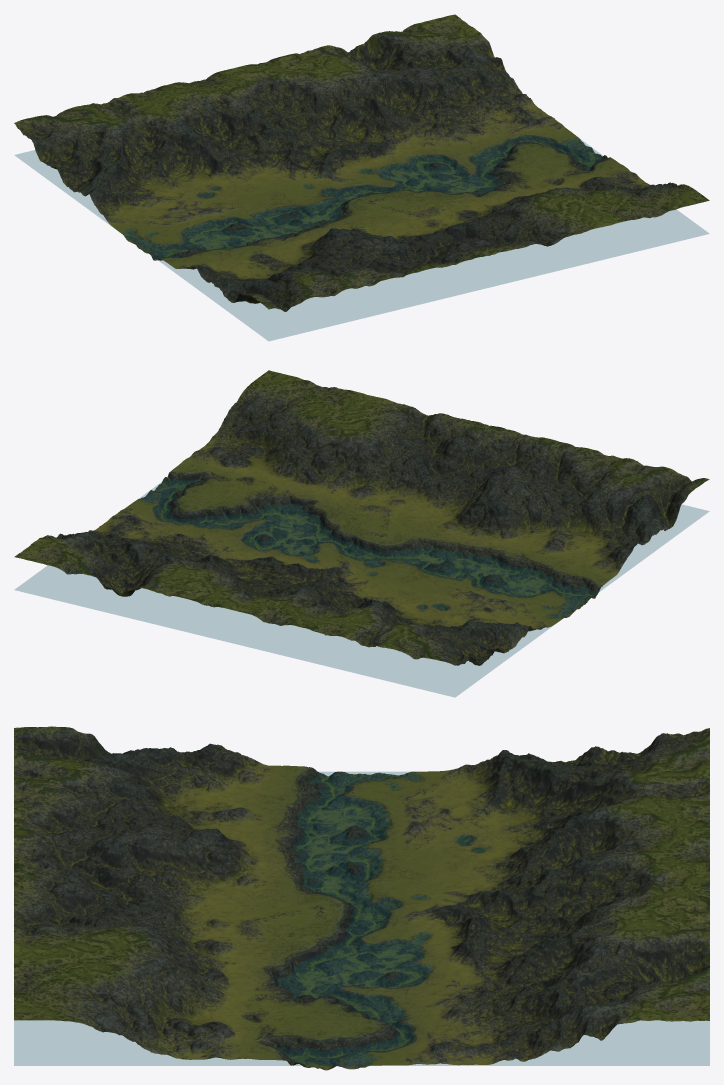
File: map_terrain.glb
The picture shows the model from 3 angles, top to bottom: view 1: azimuth 30°, elevation 25°; view 2: azimuth 150°, elevation 25°; view 3: azimuth 270°, elevation 25°; orthographic projection. The views are drawn at different scales.
Visible parts, largest first — view 1: Null_2_terrain_0, Plane_water_0; view 2: Null_2_terrain_0, Plane_water_0; view 3: Null_2_terrain_0, Plane_water_0.
Boxes of the visible parts, x1,y1,x2,y2 form: Null_2_terrain_0: [14, 14, 709, 311]; Plane_water_0: [15, 136, 708, 340]; Null_2_terrain_0: [14, 370, 709, 665]; Plane_water_0: [15, 478, 709, 697]; Null_2_terrain_0: [14, 726, 709, 1070]; Plane_water_0: [14, 772, 709, 1065].
Bounding box in the file's own units: 4 × 0.3179 × 4.
2 materials, 1 textured.
